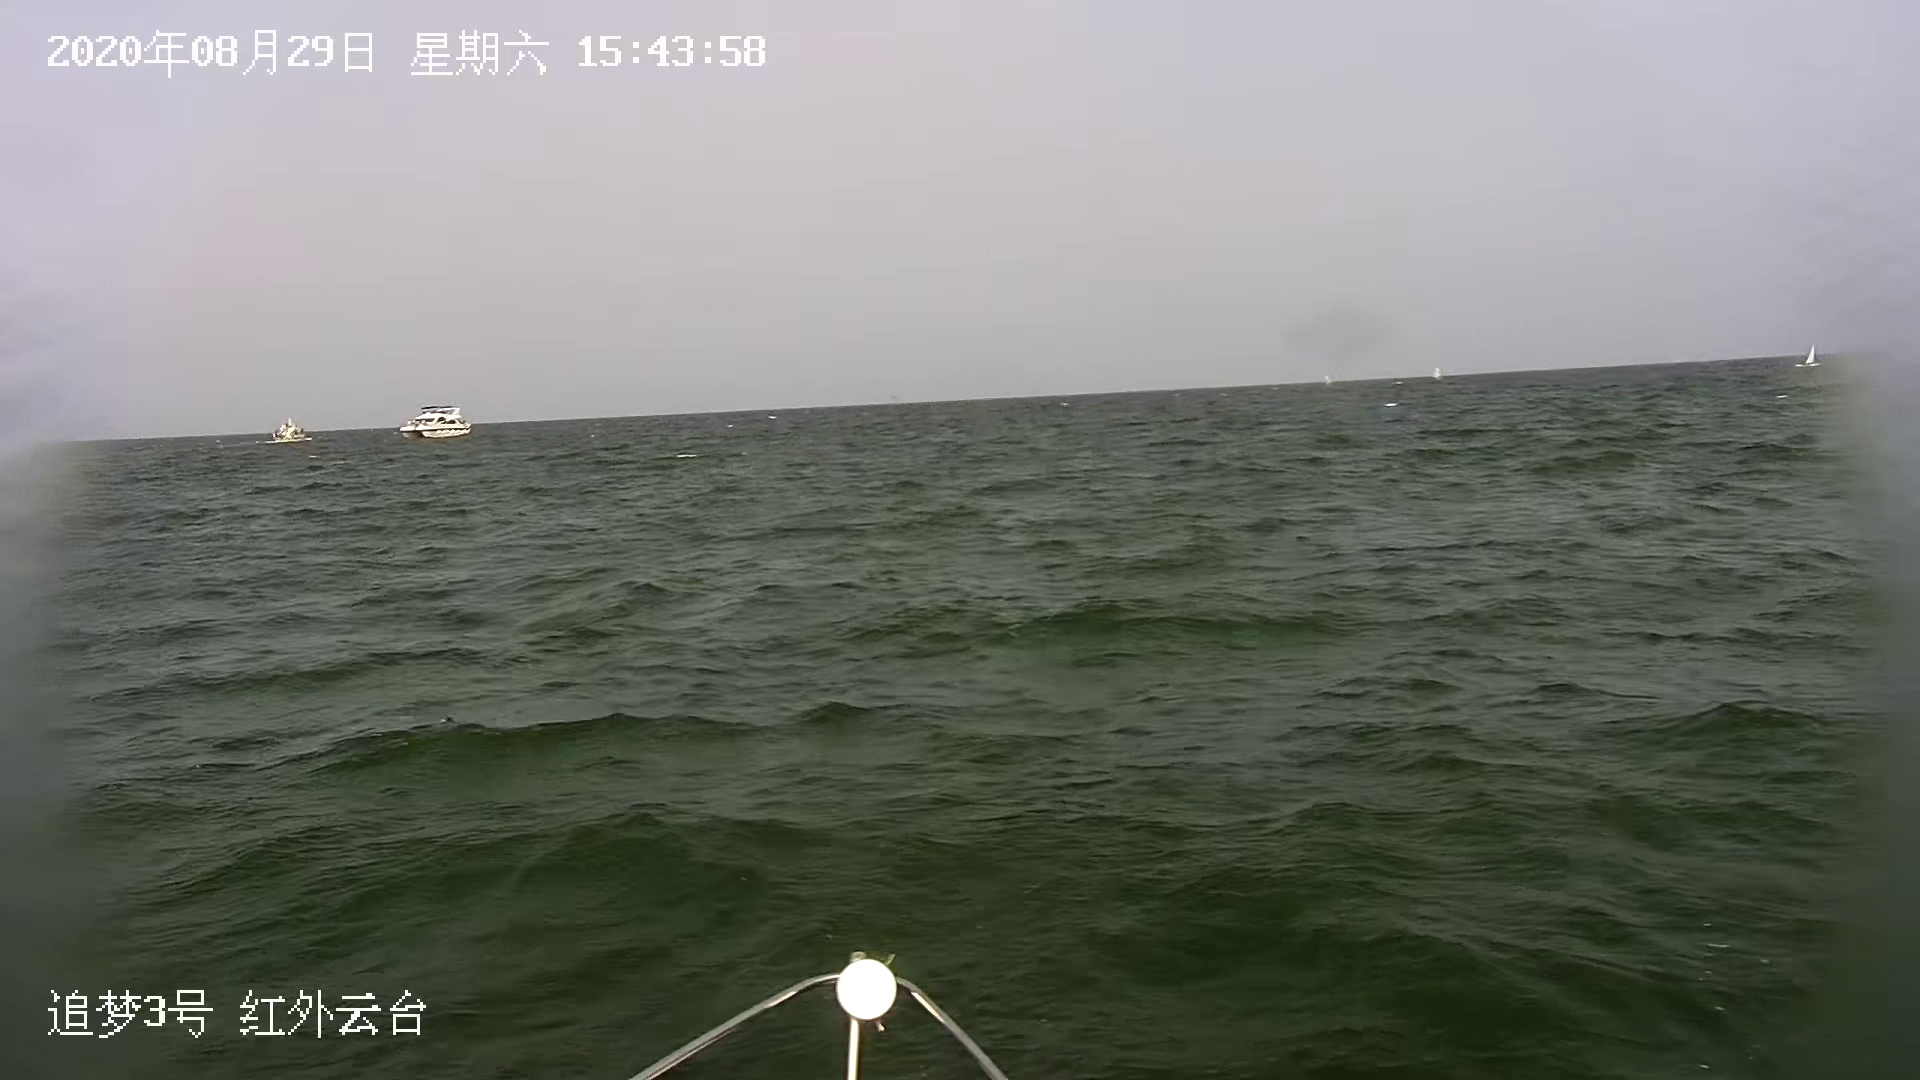barrier: (401, 405, 472, 439), (266, 418, 313, 444), (1795, 345, 1821, 369), (1431, 367, 1447, 381), (1325, 372, 1335, 385)
